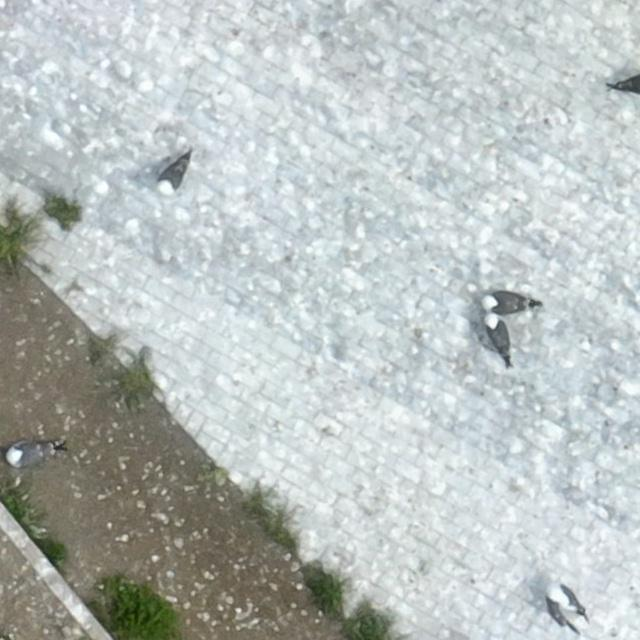umineko: (546, 588, 584, 627), (489, 316, 512, 356), (10, 444, 48, 466), (486, 294, 528, 313), (159, 160, 184, 190)
